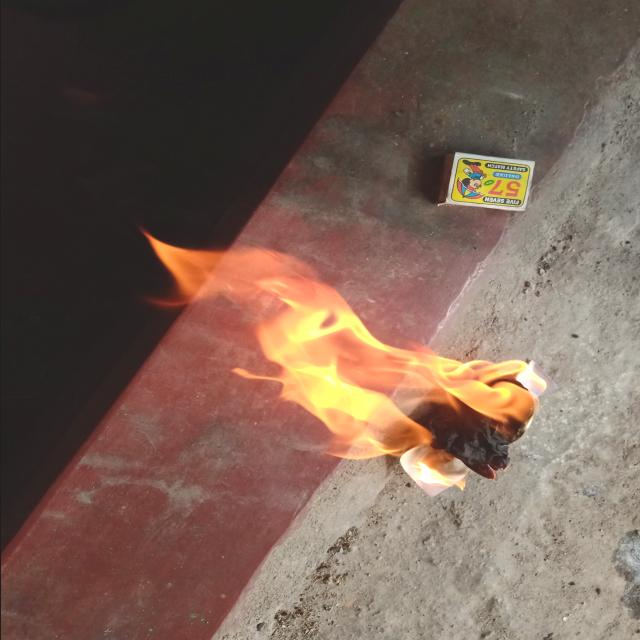firerotation: (138, 226, 548, 492)
